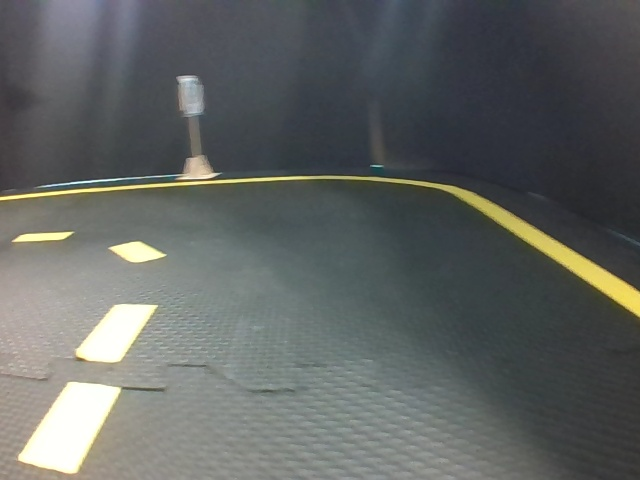no30: (179, 76, 203, 111)
